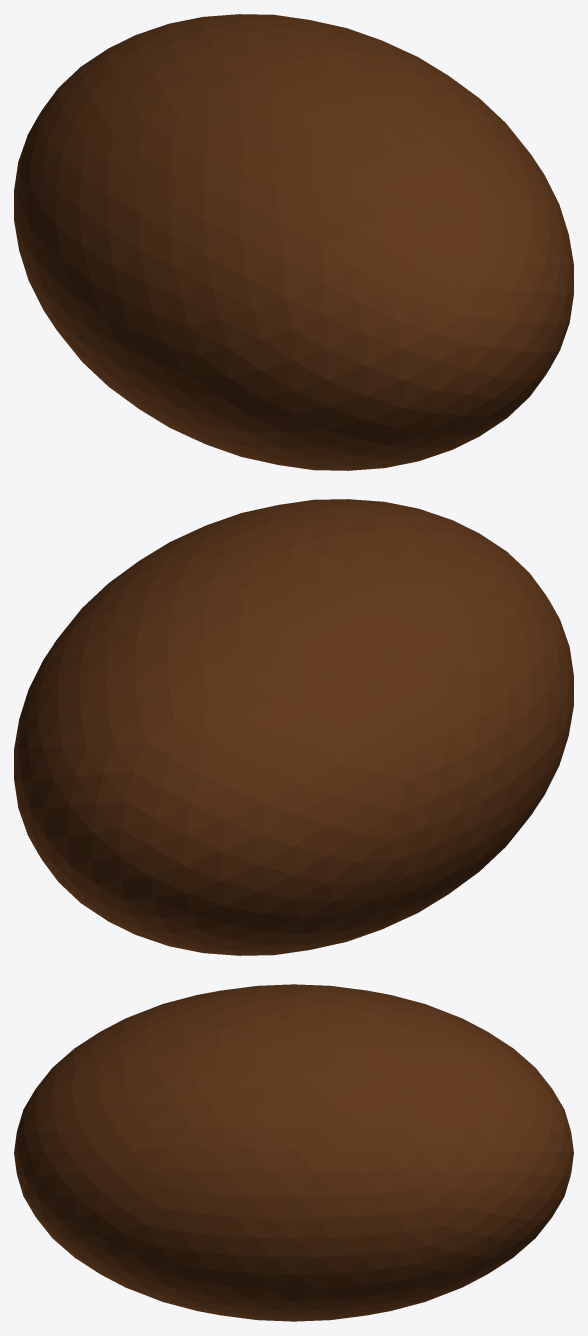
Rendered from torso.obj.
The picture shows the model from 3 angles, top to bottom: view 1: azimuth 30°, elevation 25°; view 2: azimuth 150°, elevation 25°; view 3: azimuth 270°, elevation 25°; orthographic projection. The views are drawn at different scales.
Bounding box in the file's own units: 0.21 × 0.166 × 0.29.
